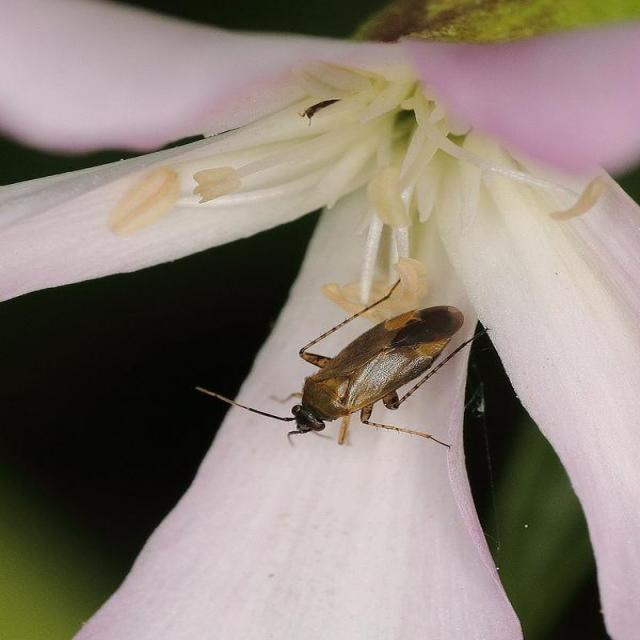Miridae-Adult-: (176, 280, 497, 454)
